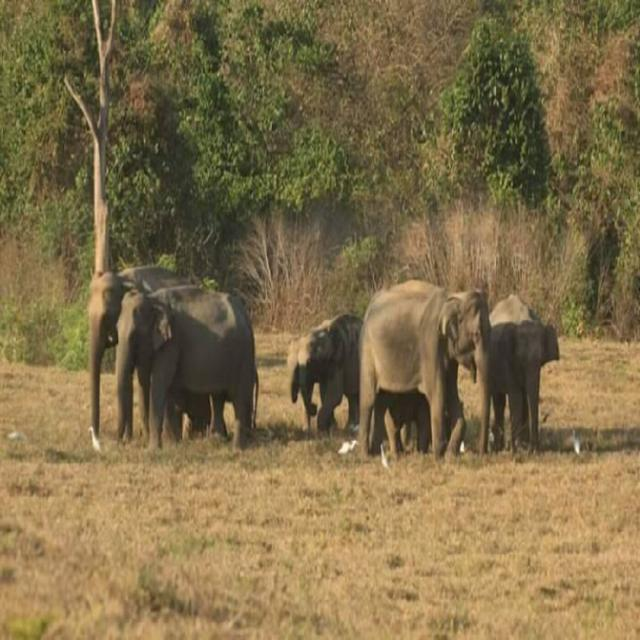Elephant: (60, 234, 269, 484), (358, 252, 501, 476), (485, 264, 568, 468), (281, 291, 361, 460)
